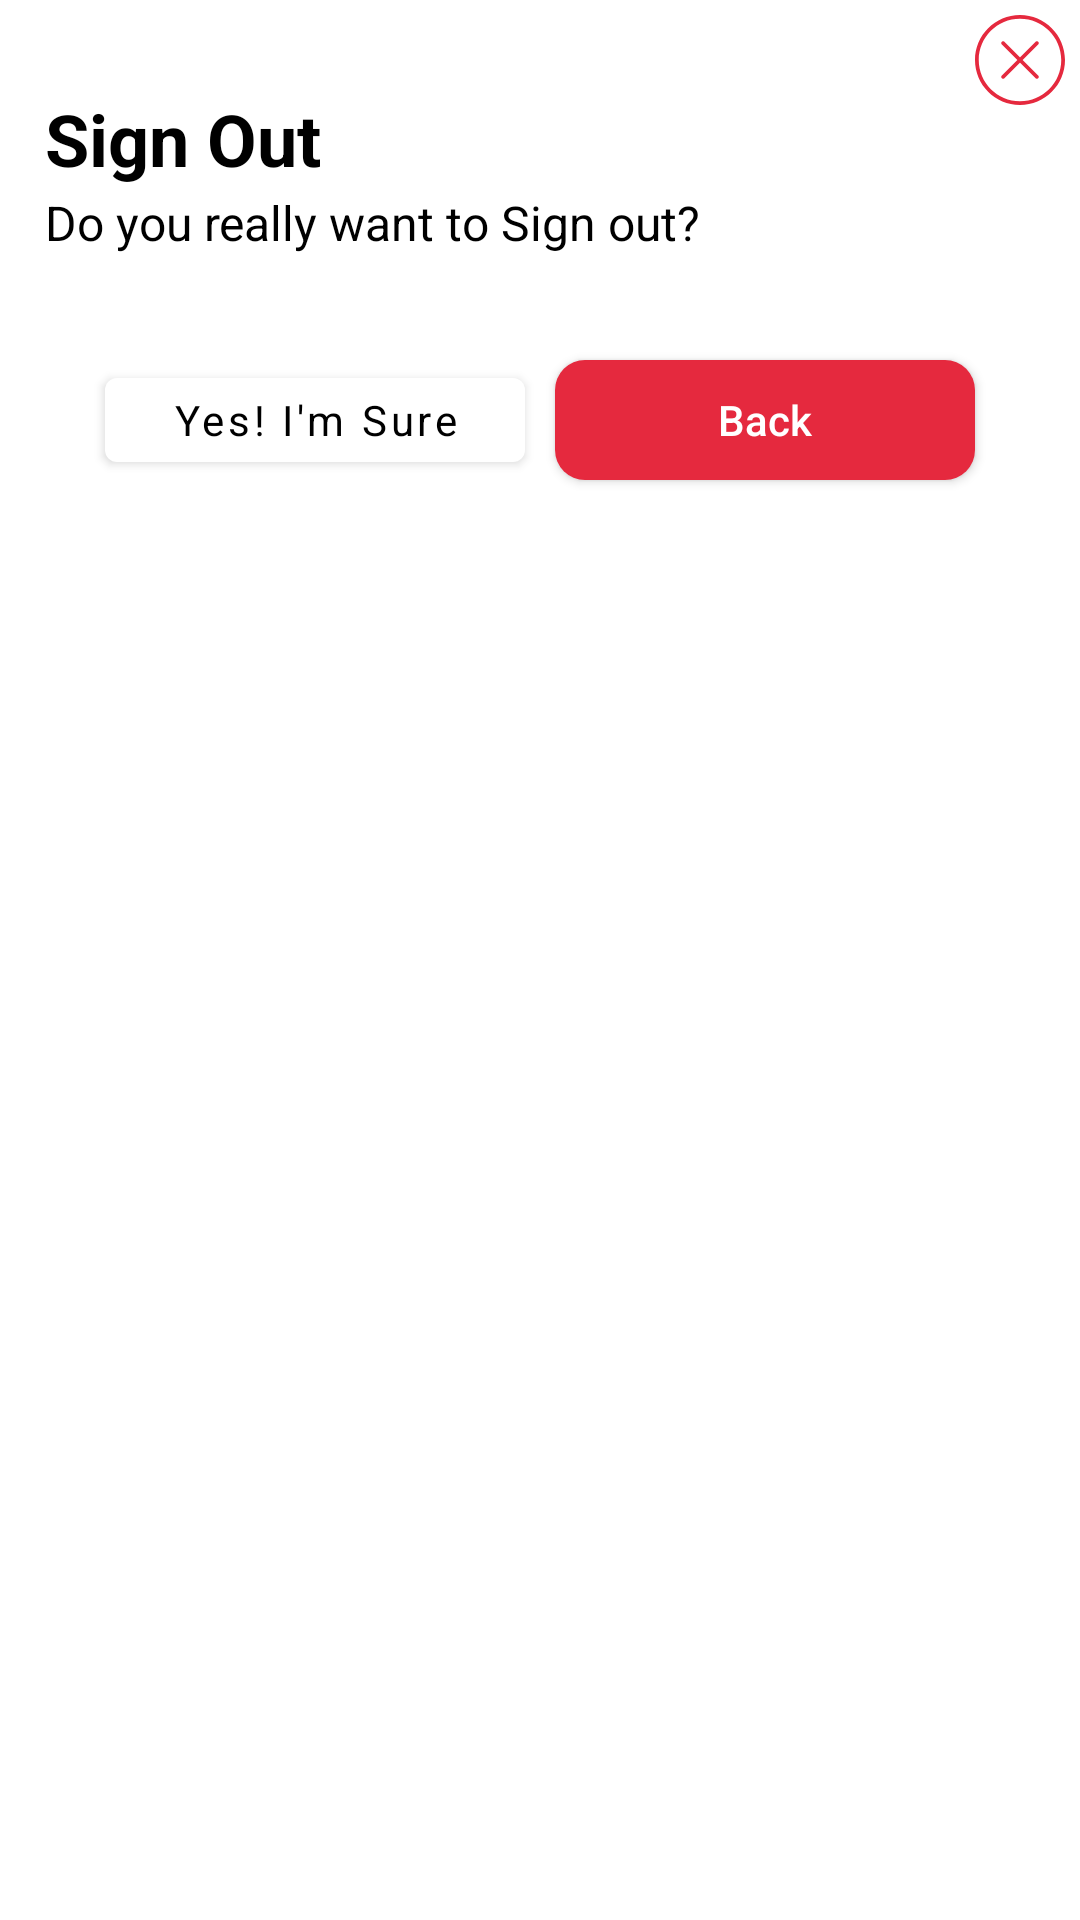

Locate icon controls on the screen. Image size 1080 × 1920, boxes as (x1, y1, x2, y2).
close: (975, 15, 1065, 105)
